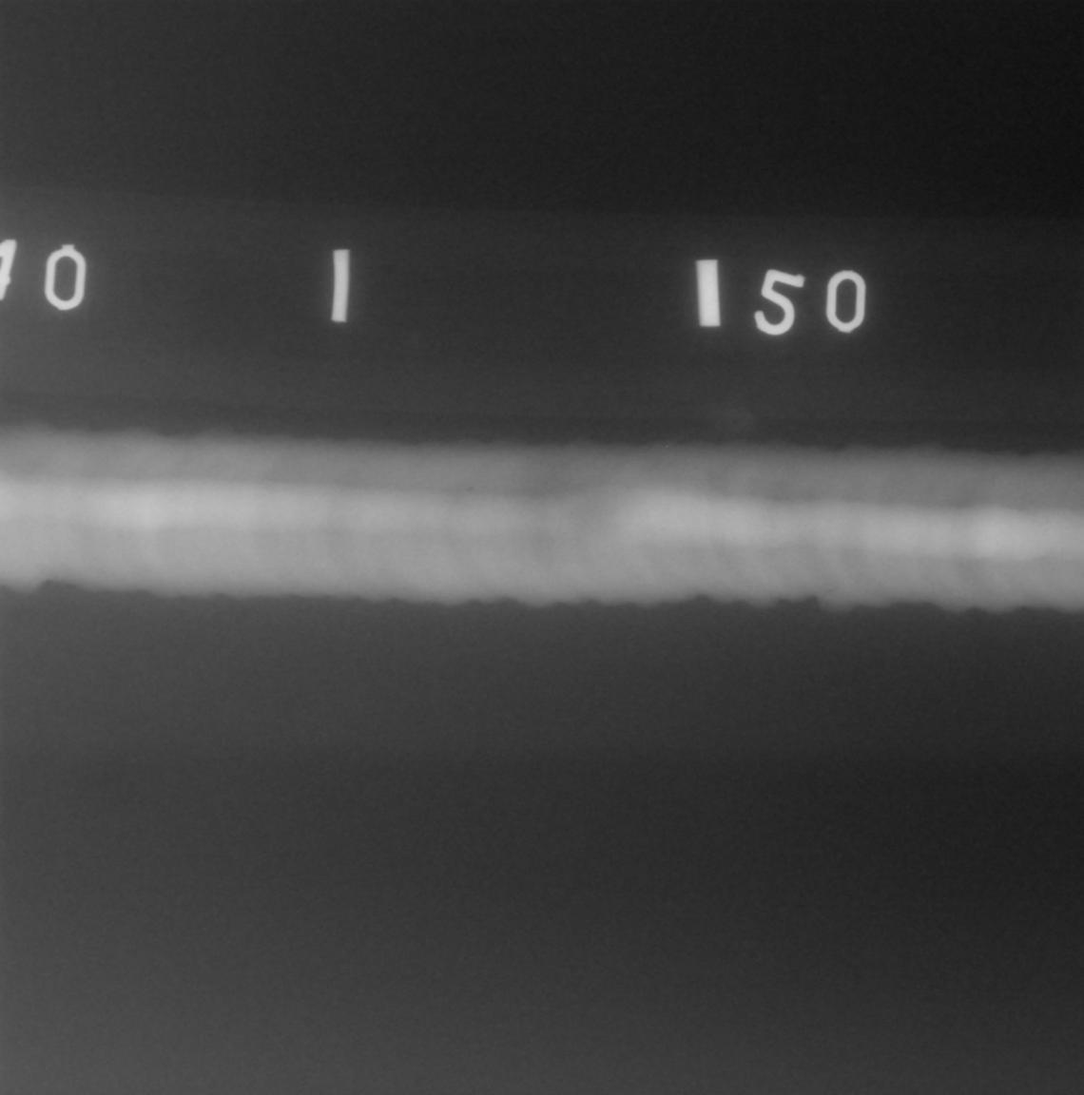Pore/Porosity: (467, 485, 474, 493)
